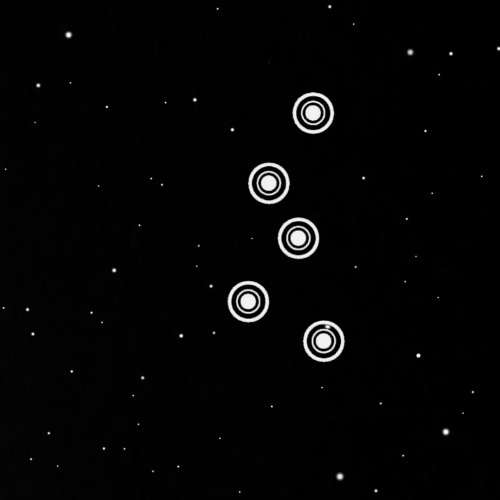cassiopeia: (214, 66, 358, 375)
